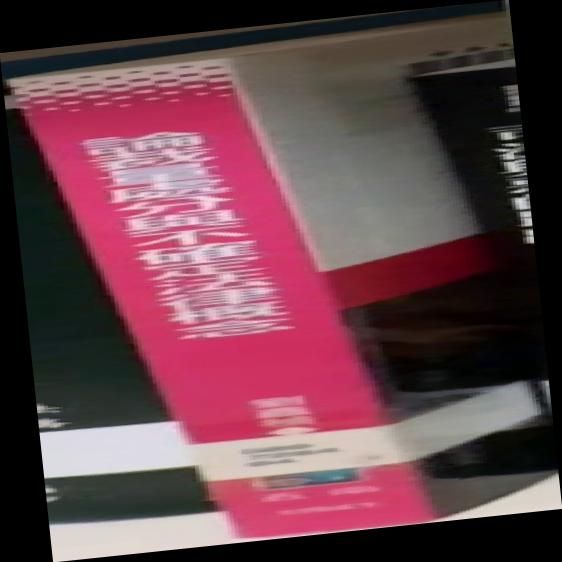book: (1, 1, 559, 562)
